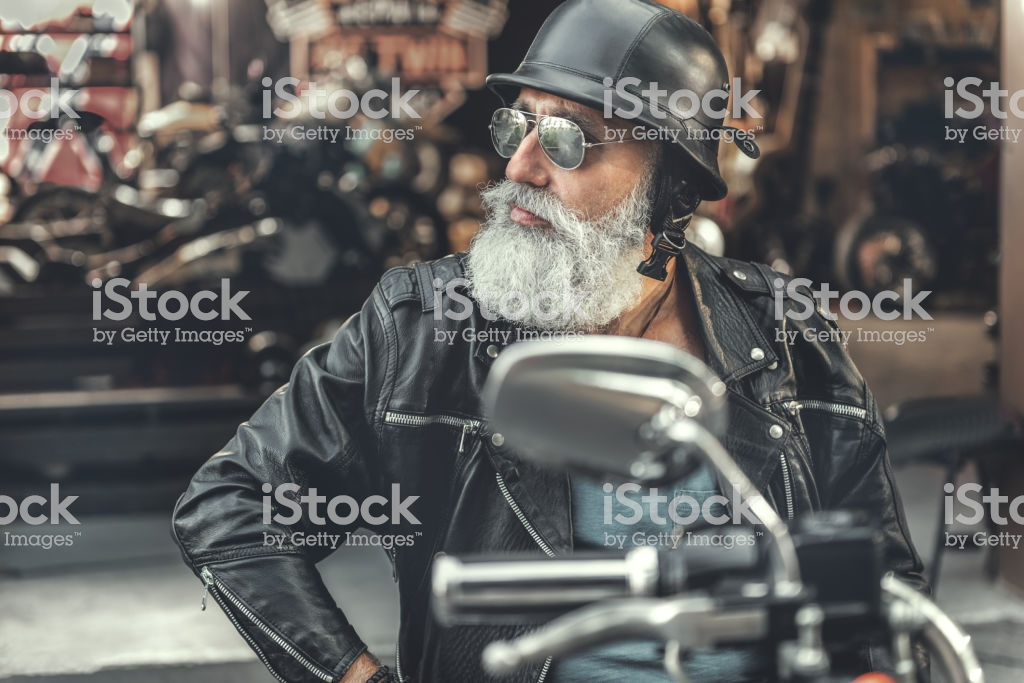helmet: (515, 1, 750, 165)
